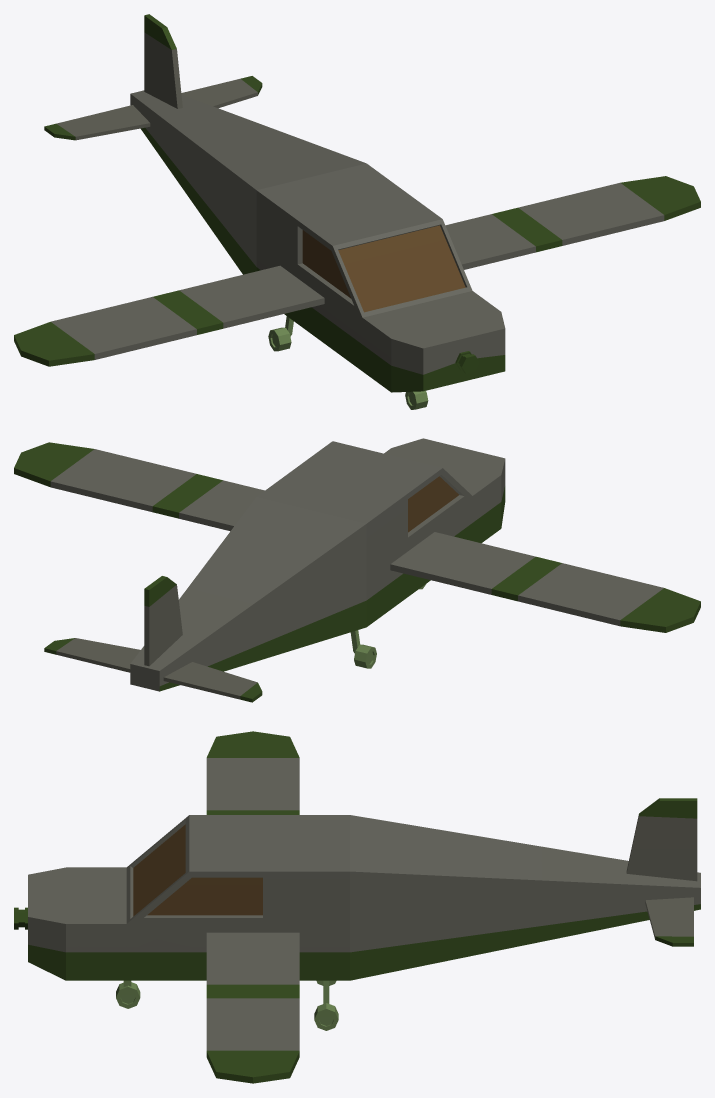
3 views of the same model, one above another, from view 1: azimuth 30°, elevation 25°; view 2: azimuth 150°, elevation 25°; view 3: azimuth 270°, elevation 25° (orthographic). The views are drawn at different scales.
Parts seen in each view (by area): view 1: Plane_06; view 2: Plane_06; view 3: Plane_06.
Boxes of the visible parts, <box> form: Plane_06: <box>14,14,700,409</box>; Plane_06: <box>14,438,700,702</box>; Plane_06: <box>14,731,700,1083</box>.
Bounding box in the file's own units: 9.27 × 2.58 × 7.78.
